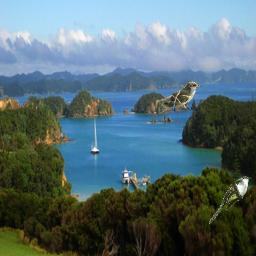Cuckoo: (208, 176, 252, 225), (156, 81, 201, 108)
